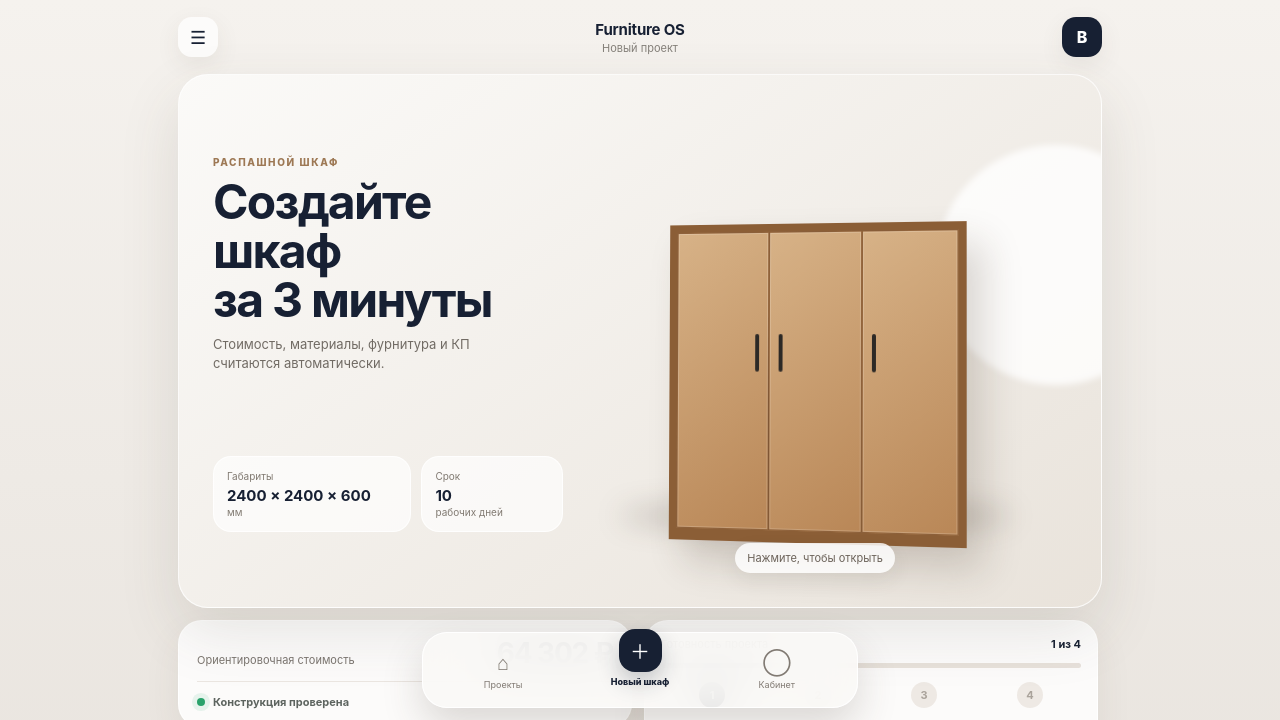
Test: prototype screen › toggles the facade preview
The image size is (1280, 720).
expect the text "64 302 ₽" is shown: met, box [497,639,613,667]
expect the text "Нажмите, чтобы открыть" is shown: met, box [735,543,895,573]
What coordinates should you click on to do the following:
click the button with aria-label "Открыть или закрыть фасады"
I would click on:
 (815, 341)
Its box is [563,109,1067,573].
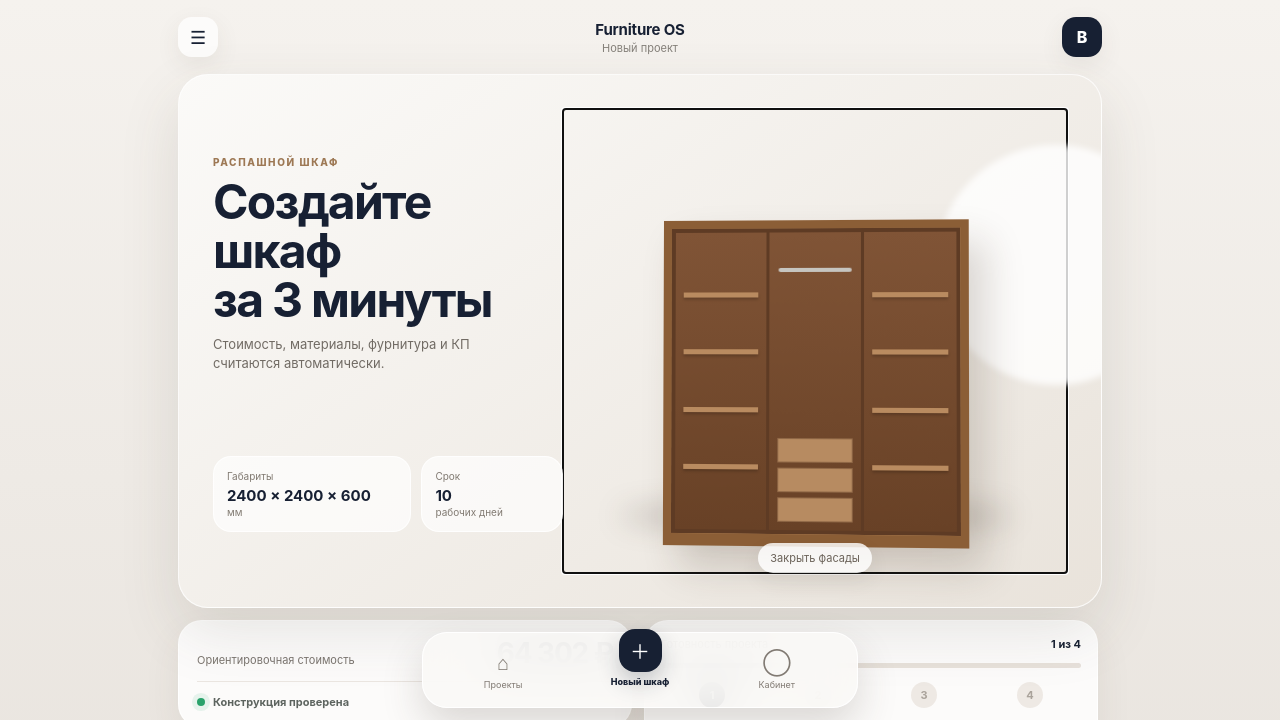
expect the text "Закрыть фасады" is shown: met, box [758,543,872,573]
